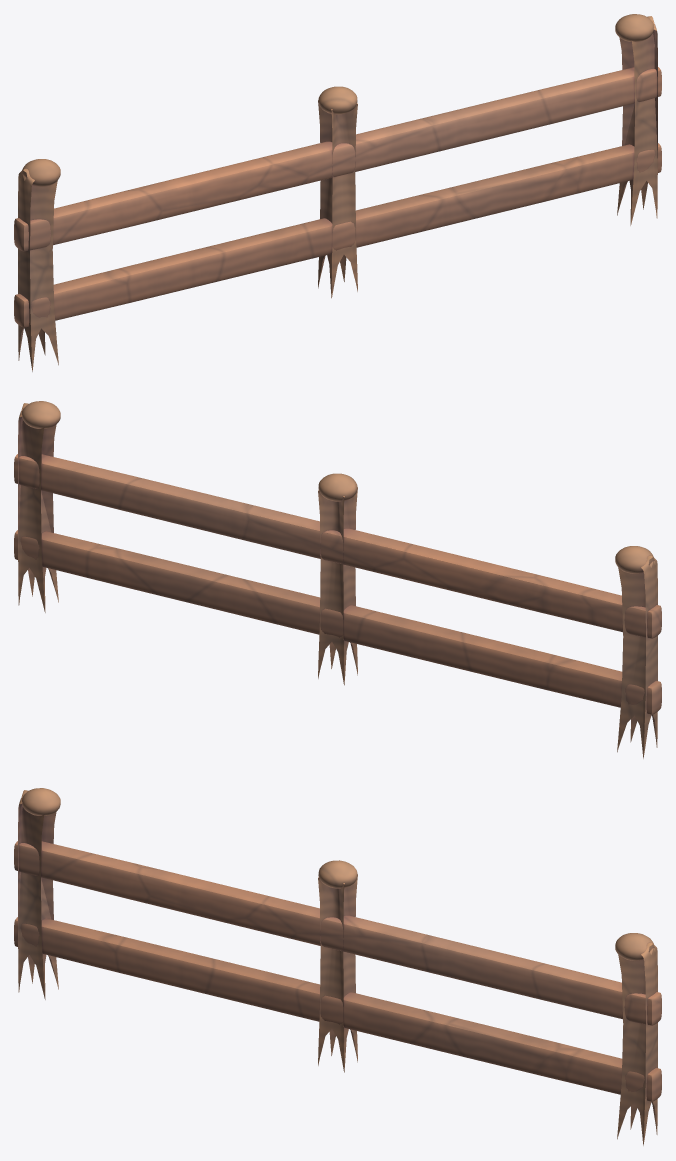
The model's file is WM_Fence_Segment.fbx.
The picture shows the model from 3 angles, top to bottom: view 1: azimuth 30°, elevation 25°; view 2: azimuth 150°, elevation 25°; view 3: azimuth 330°, elevation 25°; orthographic projection.
Parts seen in each view (by area): view 1: WM_Fence_Segment_LOD0; view 2: WM_Fence_Segment_LOD0; view 3: WM_Fence_Segment_LOD0.
Part boxes in pixels (bbox=[...]): WM_Fence_Segment_LOD0: bbox=[14, 14, 661, 371]; WM_Fence_Segment_LOD0: bbox=[14, 401, 661, 758]; WM_Fence_Segment_LOD0: bbox=[14, 788, 661, 1145].
Size of what is drawn, in the model's own units: 2.12 by 0.6405 by 0.1073.
